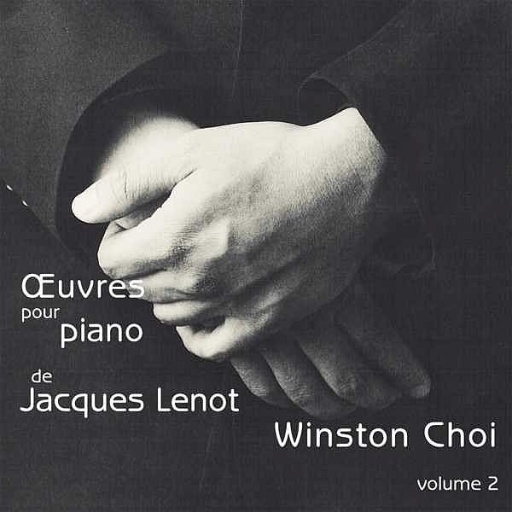hand: (110, 125, 435, 422)
